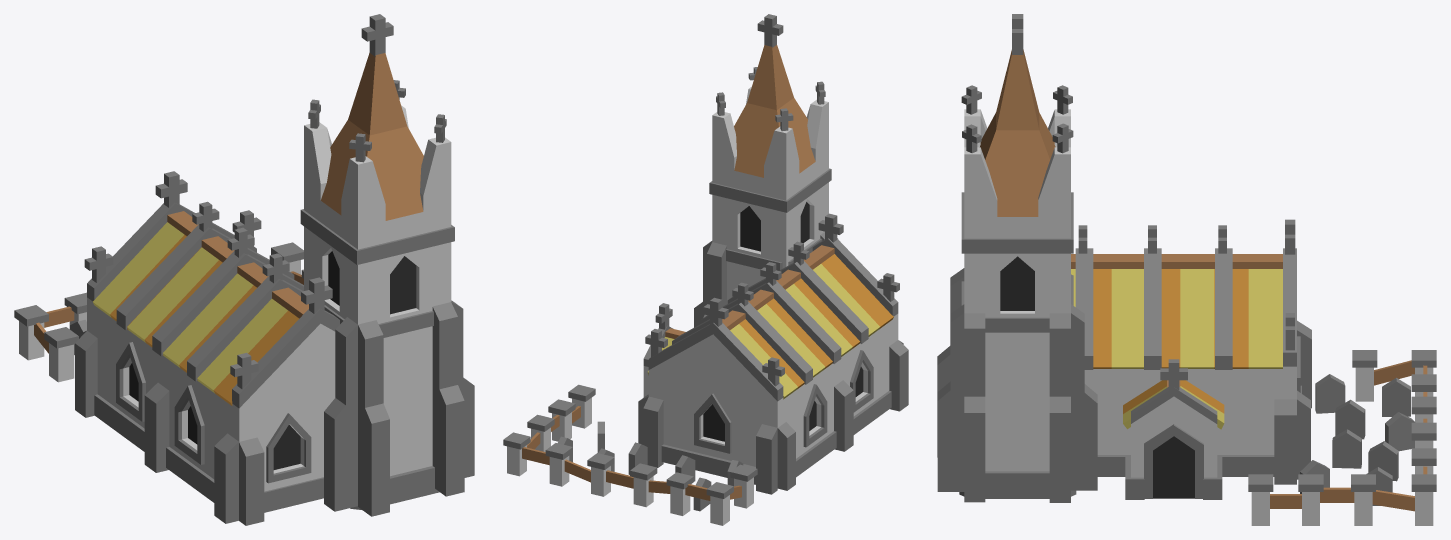
The model's file is Church3.fbx.
3 renders of one model, left to right at view 1: azimuth 30°, elevation 25°; view 2: azimuth 150°, elevation 25°; view 3: azimuth 270°, elevation 25°, orthographic. The views are drawn at different scales.
Visible parts, largest first — view 1: Cube.222, Cube.001, Cube.003, Cube.220, Cube.018, Cube.017, Cube.042, Cube.057, Cube.060, Cube.062, Cube.243, Cube.006 (+19 smaller); view 2: Cube.001, Cube.222, Cube.003, Cube.042, Cube.057, Cube.062, Cube.060, Cube.243, Cube.008, Cube.005, Cube.058, Cube.016 (+20 smaller); view 3: Cube.222, Cube.003, Cube.001, Cube.219, Cube.020, Cube.019, Cube.018, Cube.002, Cube.005, Cube.242, Cube.057, Cube.060 (+30 smaller).
Part boxes in pixels (x1=…): Cube.222: x1=304, y1=53, x2=451, y2=476; Cube.001: x1=87, y1=202, x2=339, y2=491; Cube.003: x1=93, y1=222, x2=299, y2=405; Cube.220: x1=358, y1=320, x2=389, y2=516; Cube.018: x1=432, y1=302, x2=464, y2=496; Cube.017: x1=324, y1=317, x2=357, y2=511; Cube.042: x1=94, y1=394, x2=323, y2=512; Cube.057: x1=116, y1=224, x2=294, y2=329; Cube.060: x1=152, y1=251, x2=303, y2=356; Cube.062: x1=187, y1=276, x2=303, y2=381; Cube.243: x1=300, y1=209, x2=454, y2=264; Cube.006: x1=239, y1=437, x2=264, y2=525; Cube.001: x1=648, y1=238, x2=898, y2=466; Cube.222: x1=712, y1=45, x2=828, y2=303; Cube.003: x1=730, y1=254, x2=893, y2=399; Cube.042: x1=661, y1=391, x2=891, y2=484; Cube.057: x1=672, y1=302, x2=812, y2=384; Cube.062: x1=727, y1=261, x2=868, y2=343; Cube.060: x1=700, y1=281, x2=841, y2=363; Cube.243: x1=709, y1=168, x2=831, y2=212; Cube.008: x1=756, y1=424, x2=777, y2=494; Cube.005: x1=722, y1=245, x2=834, y2=329; Cube.058: x1=643, y1=396, x2=663, y2=467; Cube.016: x1=834, y1=380, x2=853, y2=451; Cube.222: x1=964, y1=49, x2=1070, y2=471; Cube.003: x1=1071, y1=269, x2=1282, y2=368; Cube.001: x1=1084, y1=248, x2=1300, y2=454; Cube.219: x1=1131, y1=387, x2=1217, y2=498; Cube.020: x1=1049, y1=313, x2=1070, y2=502; Cube.019: x1=964, y1=313, x2=985, y2=502; Cube.018: x1=937, y1=304, x2=964, y2=491; Cube.002: x1=1071, y1=304, x2=1097, y2=490; Cube.005: x1=1071, y1=254, x2=1282, y2=268; Cube.242: x1=1153, y1=436, x2=1194, y2=498; Cube.057: x1=1215, y1=248, x2=1232, y2=369; Cube.060: x1=1144, y1=248, x2=1161, y2=369.
Size of the model in its own units: 1178 by 1794 by 1773.
